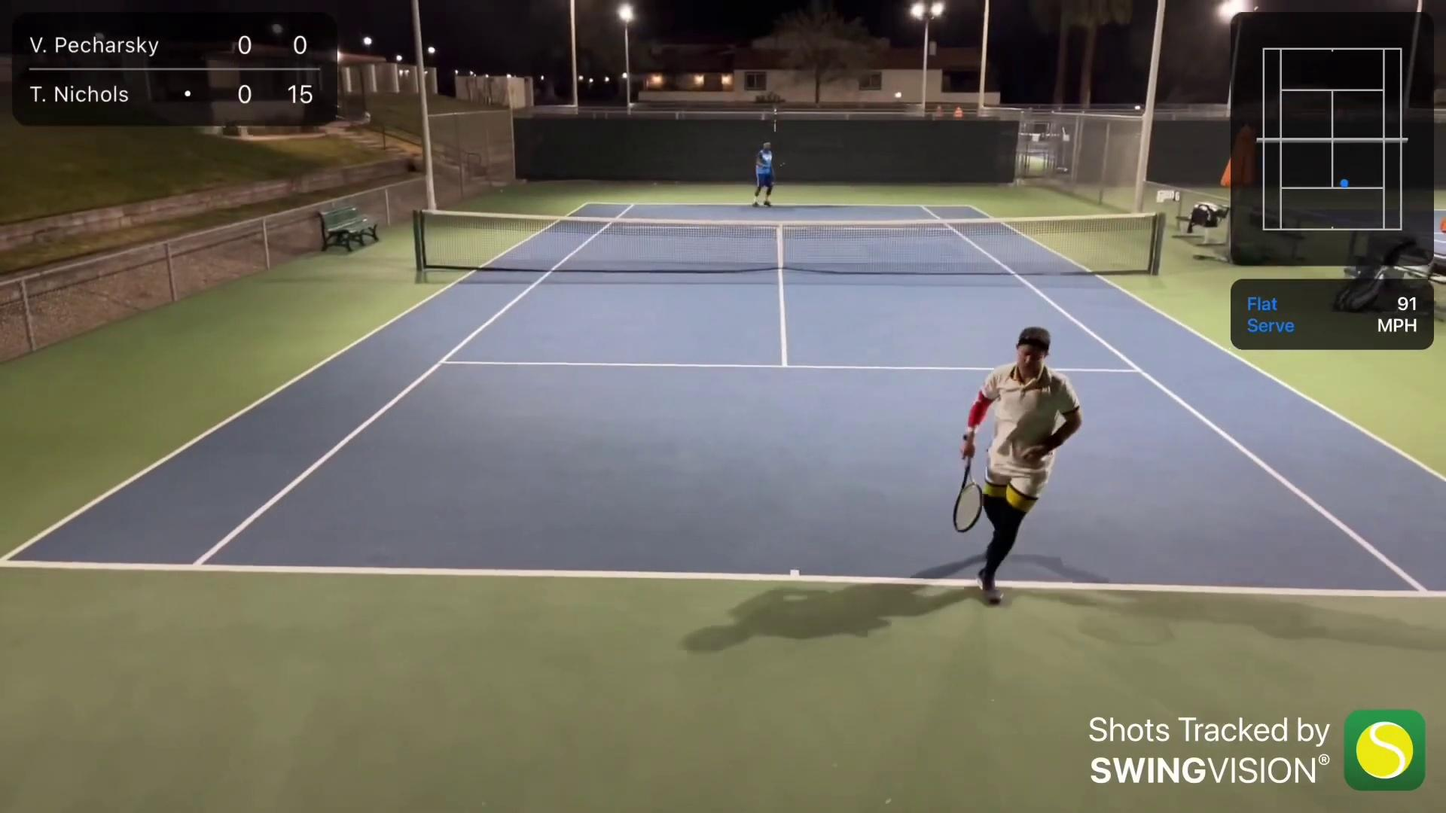ball: (652, 179, 662, 188), (881, 797, 892, 805), (498, 188, 506, 193)
